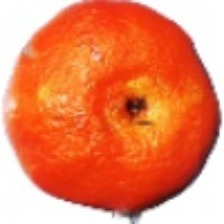tangerine: (16, 49, 214, 201)
